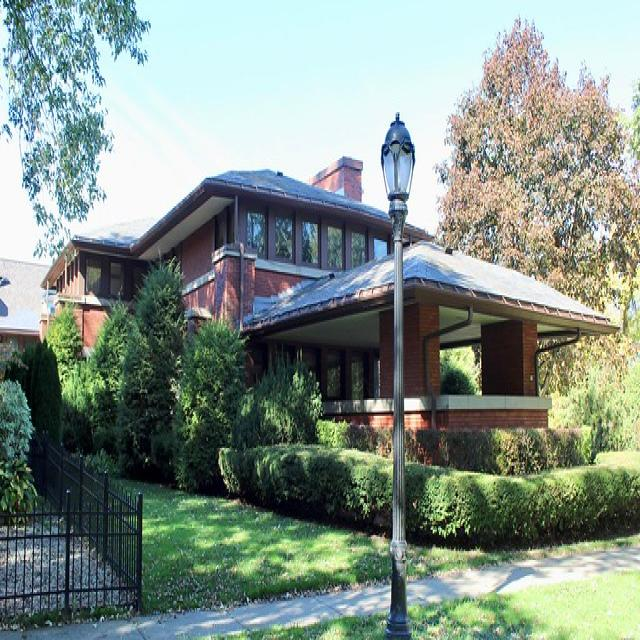Normal_building: (37, 147, 622, 472)
